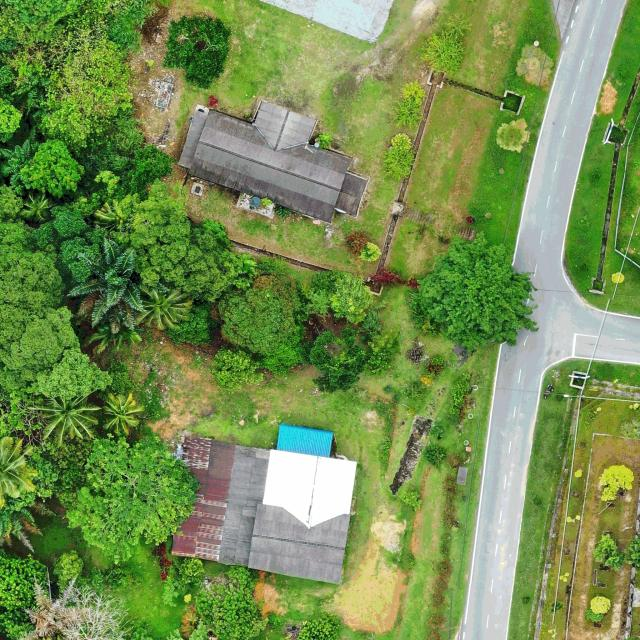0: (66, 230, 156, 329), (27, 396, 101, 448), (127, 282, 193, 330), (0, 437, 38, 500), (60, 234, 105, 282), (102, 390, 146, 438), (0, 138, 39, 186), (20, 190, 56, 224)
tree: (62, 431, 200, 566), (414, 235, 539, 354), (140, 219, 260, 302), (219, 281, 310, 375), (192, 564, 269, 640), (0, 221, 66, 309), (0, 304, 82, 373), (132, 176, 190, 272), (161, 14, 234, 89), (24, 346, 110, 399), (0, 547, 49, 640), (20, 138, 85, 198), (308, 326, 367, 392), (309, 267, 373, 326), (31, 205, 88, 250), (209, 345, 259, 394), (422, 26, 468, 78), (390, 80, 428, 129), (381, 132, 417, 180), (598, 463, 635, 504), (50, 549, 86, 591), (592, 532, 622, 571), (177, 556, 207, 585), (423, 443, 448, 467), (588, 594, 612, 616), (398, 489, 423, 510), (315, 132, 333, 150)
